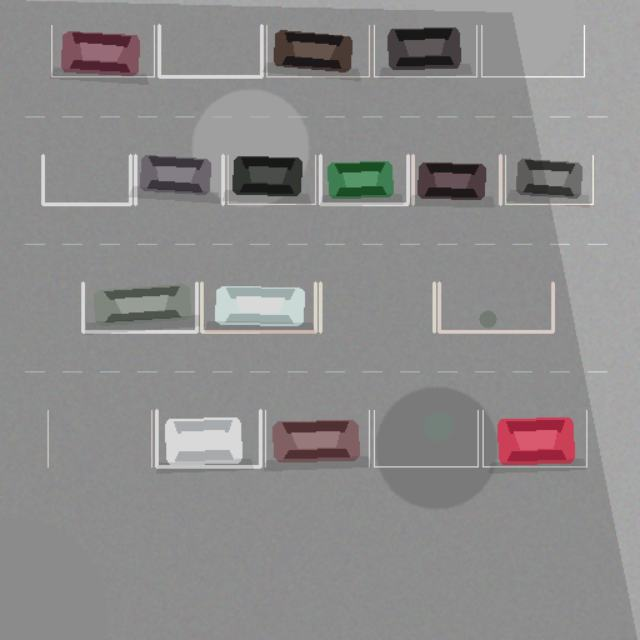space-empty: (47, 410, 151, 466), (374, 410, 477, 466), (320, 282, 434, 331), (439, 282, 552, 331), (481, 25, 584, 76), (159, 25, 261, 76), (43, 155, 130, 204)
space-occupied: (156, 410, 260, 466), (265, 410, 369, 466), (483, 410, 586, 466), (82, 282, 196, 331), (201, 282, 315, 331), (51, 25, 154, 76), (266, 25, 369, 76), (374, 25, 476, 76), (135, 155, 223, 204), (227, 155, 315, 204), (505, 155, 593, 204), (320, 155, 407, 204), (413, 155, 500, 204)
